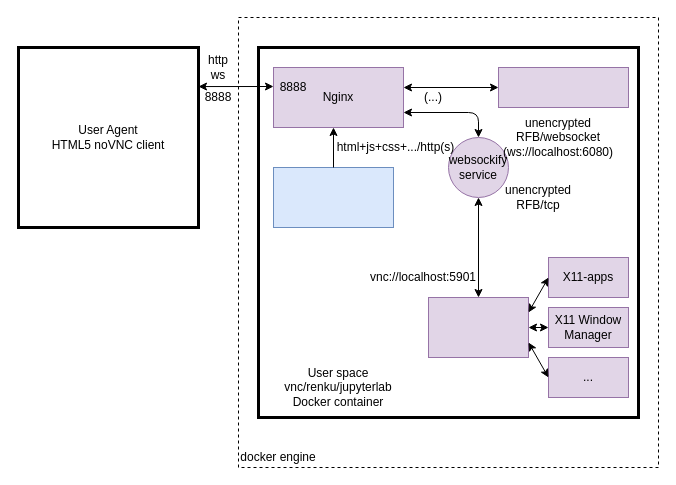
Some shapes in this 676 by 485 pixel diagram are drawn without their labels. Each missing label, with the centre of its shape:
"other VNC stacks" belongs at point 563,87.
"static novnc core & app" belongs at point 333,197.
"Xvnc(4) VNC+X11 Server" belongs at point 478,327.
